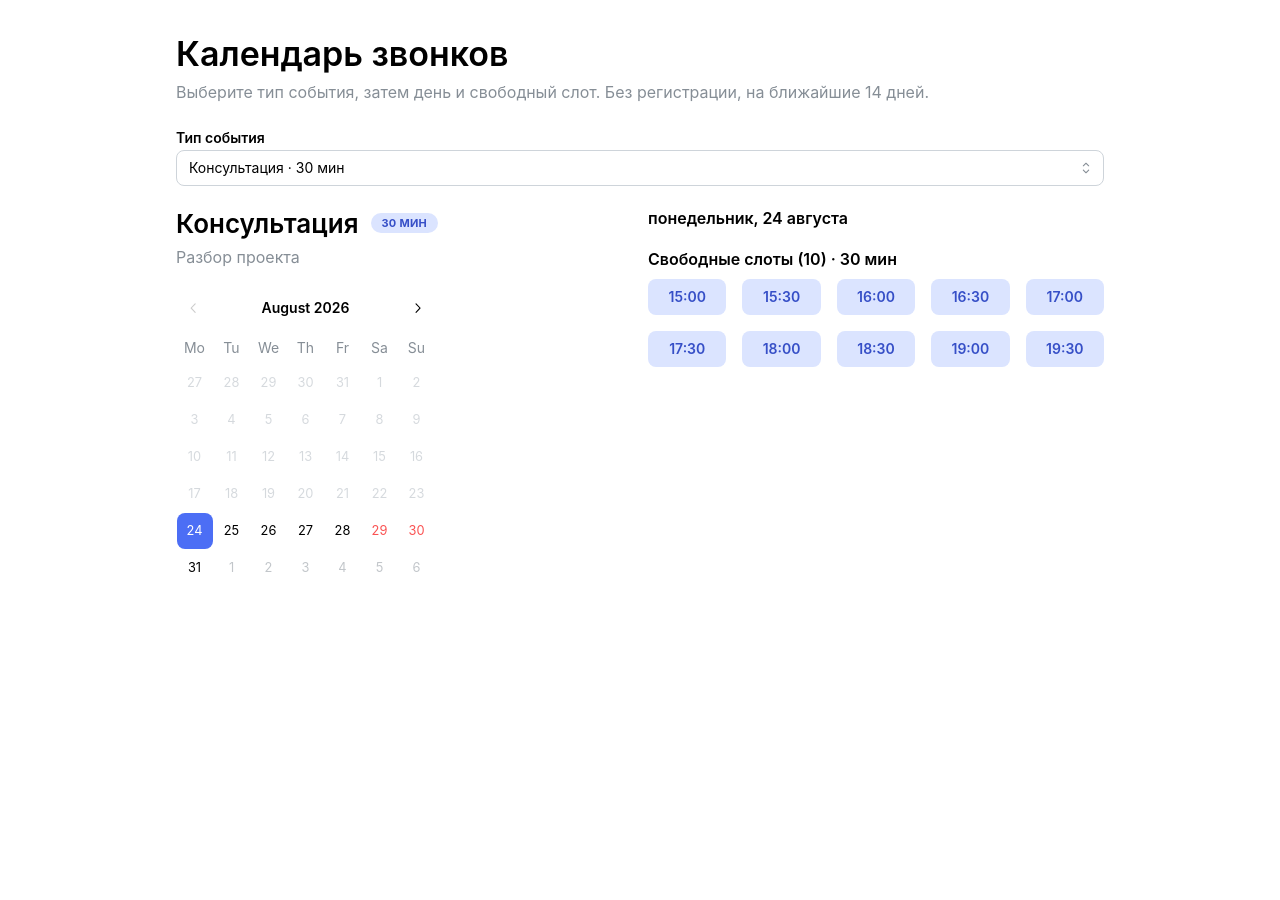
Test: BookingPage (гость: тип события → календарь → слоты) › не даёт отправить форму с пустыми полями
The image size is (1280, 900).
Expected: the heading "Консультация" is shown, x1=176 y1=206 x2=358 y2=241
Click the button named "2026-08-25" at (232, 531), box x1=214 y1=513 x2=250 y2=549
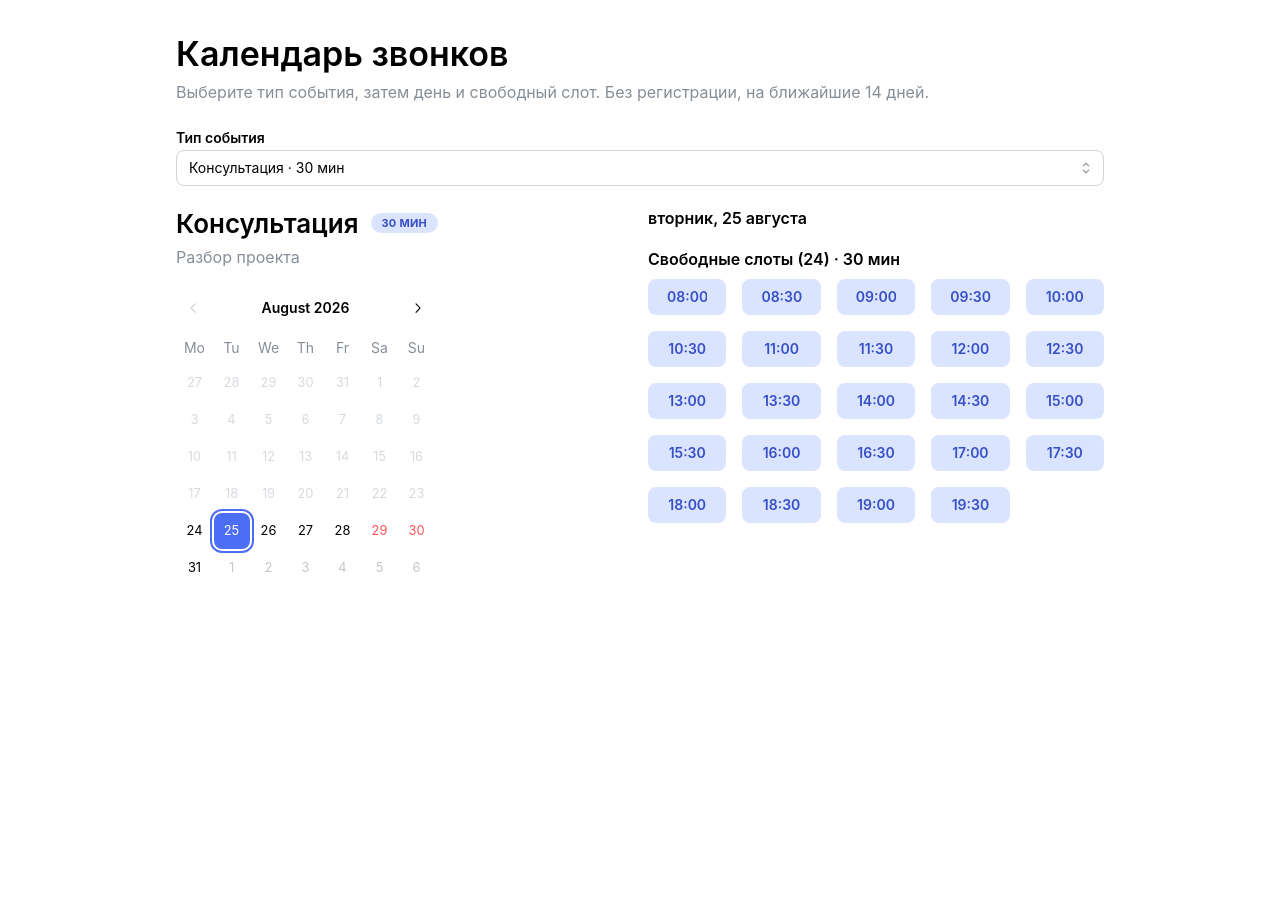
Expected: the text "Свободные слоты (24) · 30 мин" is shown, x1=648 y1=249 x2=900 y2=269
Click the button "08:00" at (687, 297), box x1=648 y1=279 x2=726 y2=315
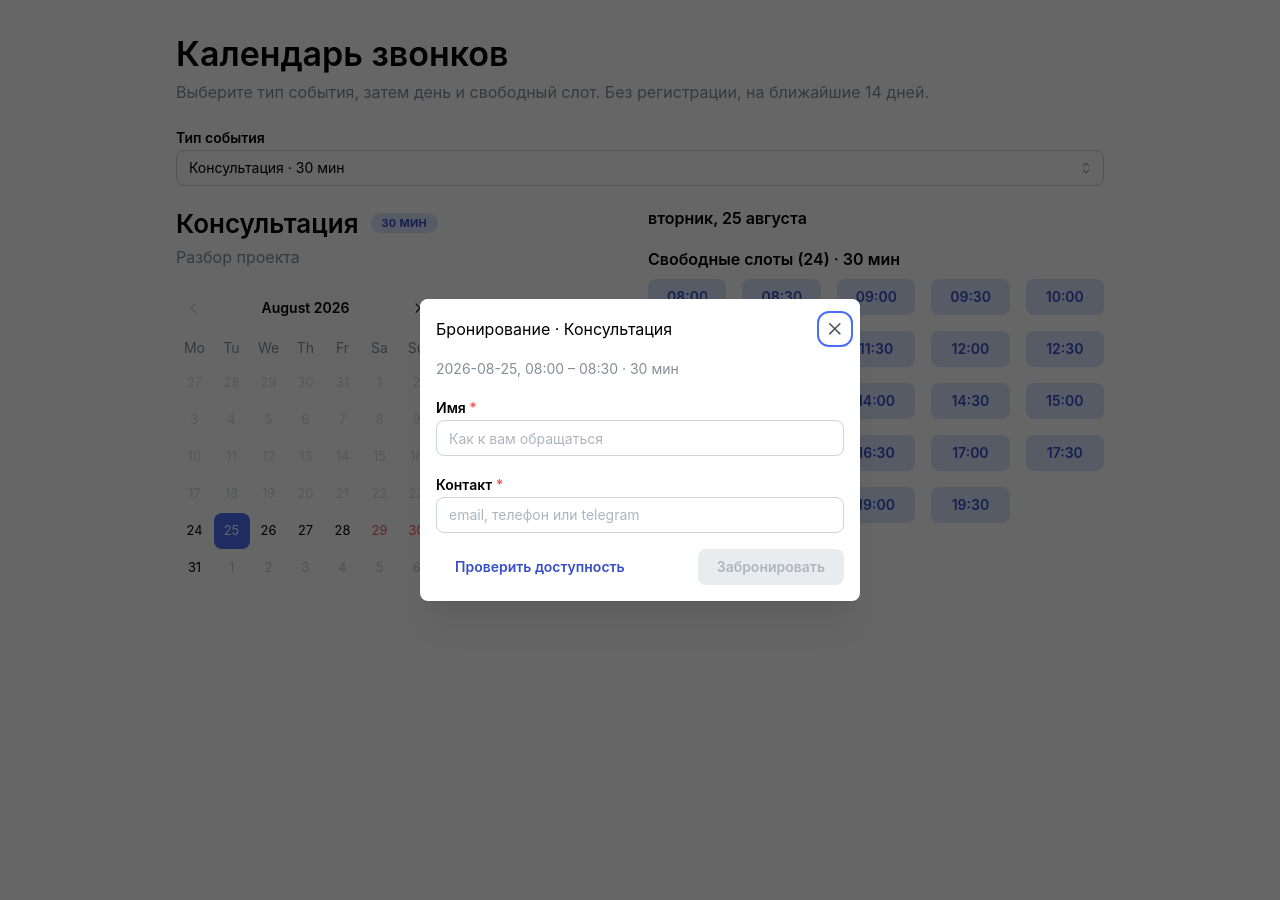
Result: the field labelled "Имя *" is shown at x1=436 y1=420 x2=844 y2=456
Result: the button "Забронировать" is disabled at x1=698 y1=549 x2=844 y2=585
